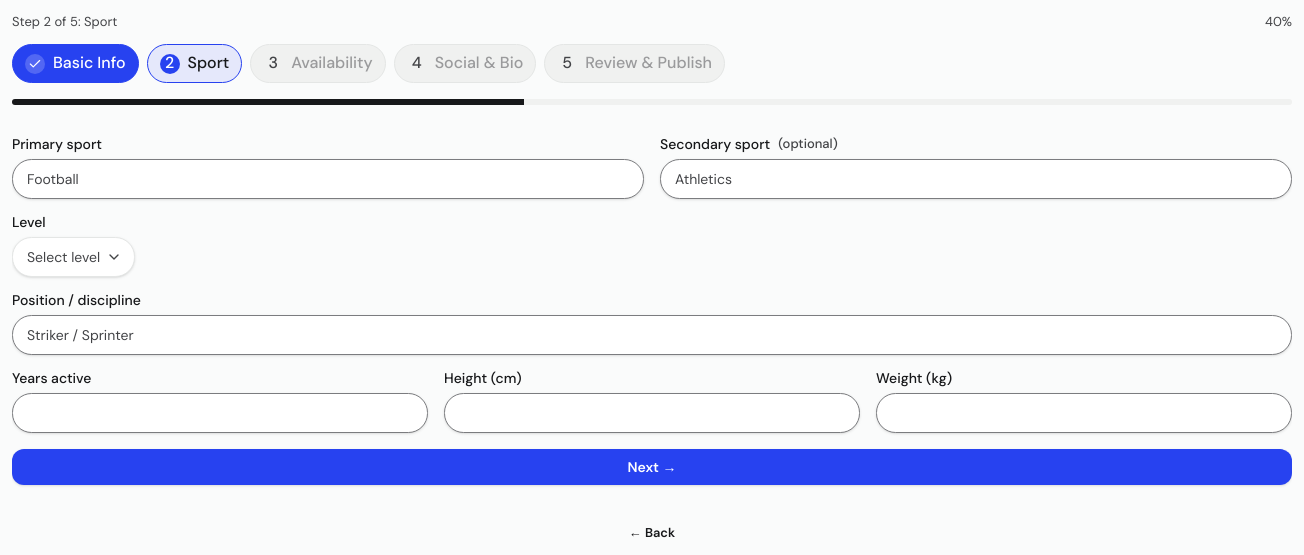
ProfileWizard › step 2: all 8 levels are offered in the level selector
Step 1. Click the dropdown labelled "Select level ▼" → (74, 257), box [12,237,135,277]
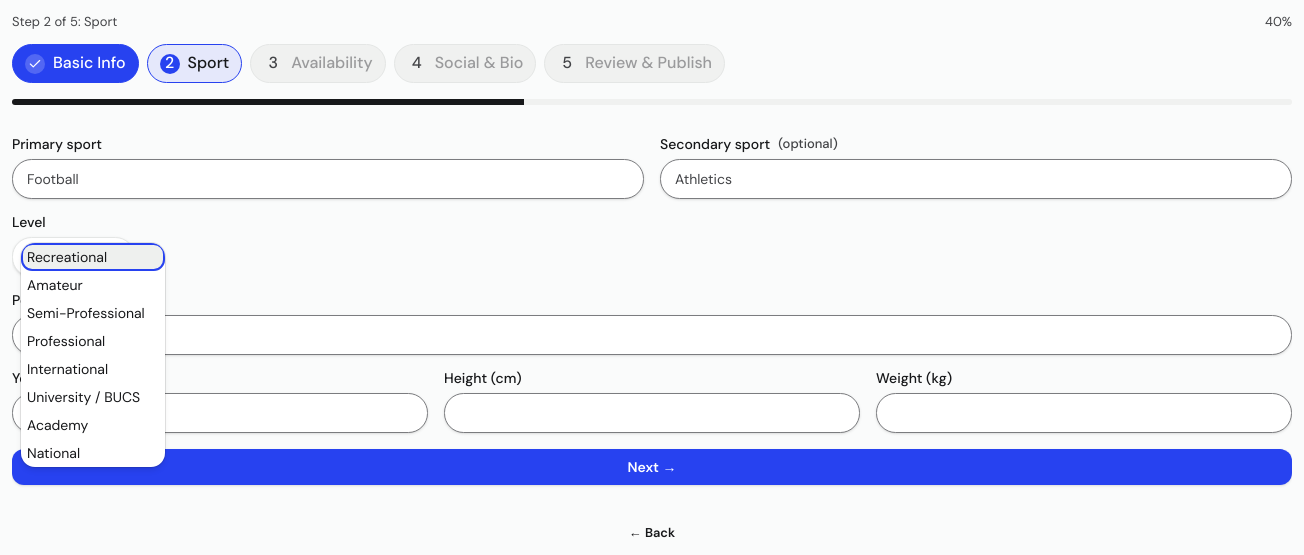
expect the option "Recreational" is shown: met, box [21,243,165,271]
expect the option "Amateur" is shown: met, box [27,276,83,294]
expect the option "Semi-Professional" is shown: met, box [27,304,145,322]
